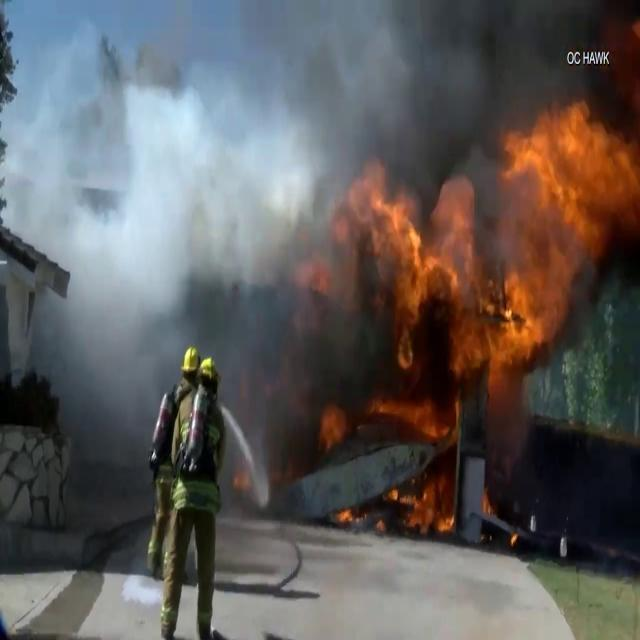Fire: (353, 106, 640, 400)
Smoke: (1, 7, 407, 455)
